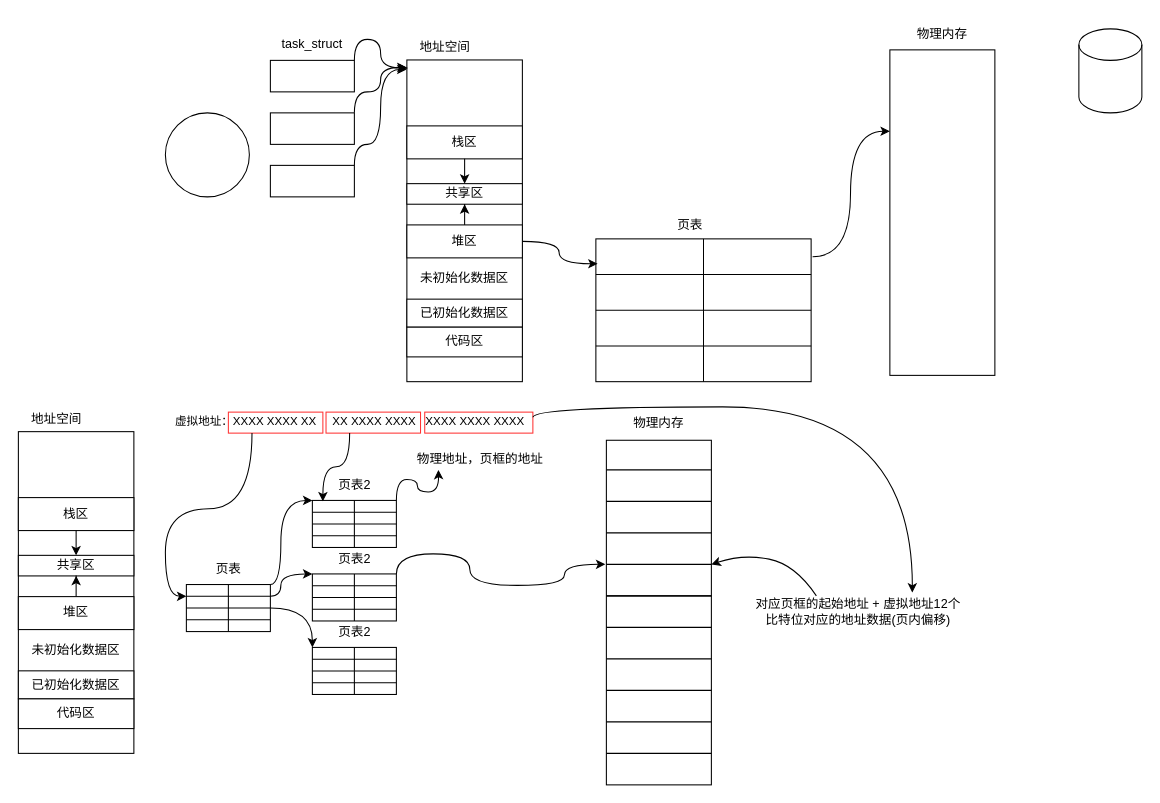
Some shapes in this 1160 by 803 pixel diagram are drawn without their labels. The centre of each missing label's shape, as x and y in pixels:
"CPU" goes at pixel 206 154.
"磁盘" goes at pixel 1110 70.
